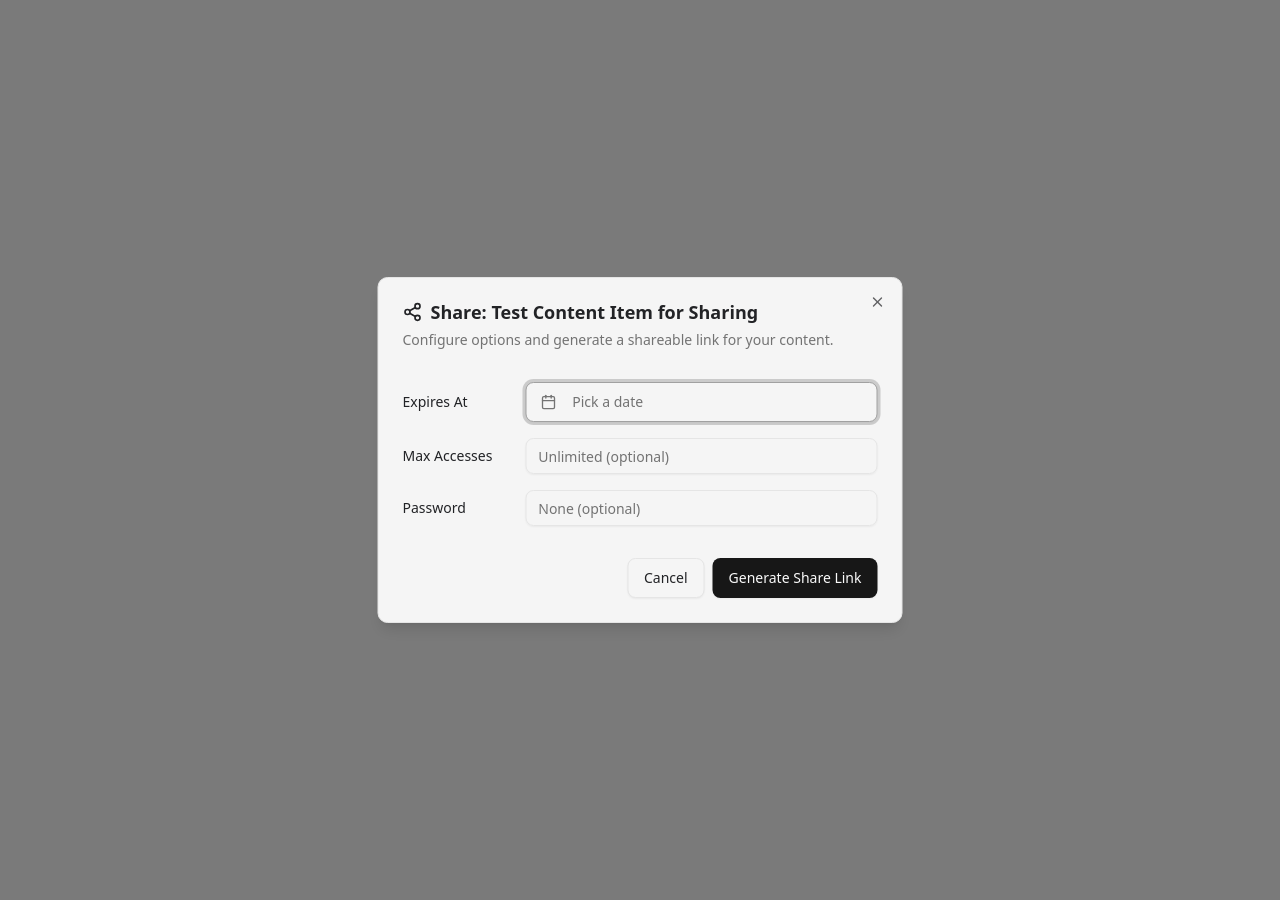
Scenario: ShareContentModal › displays error message on API failure
Click the button "Generate Share Link" at (795, 578), box left=713, top=558, right=878, bottom=598
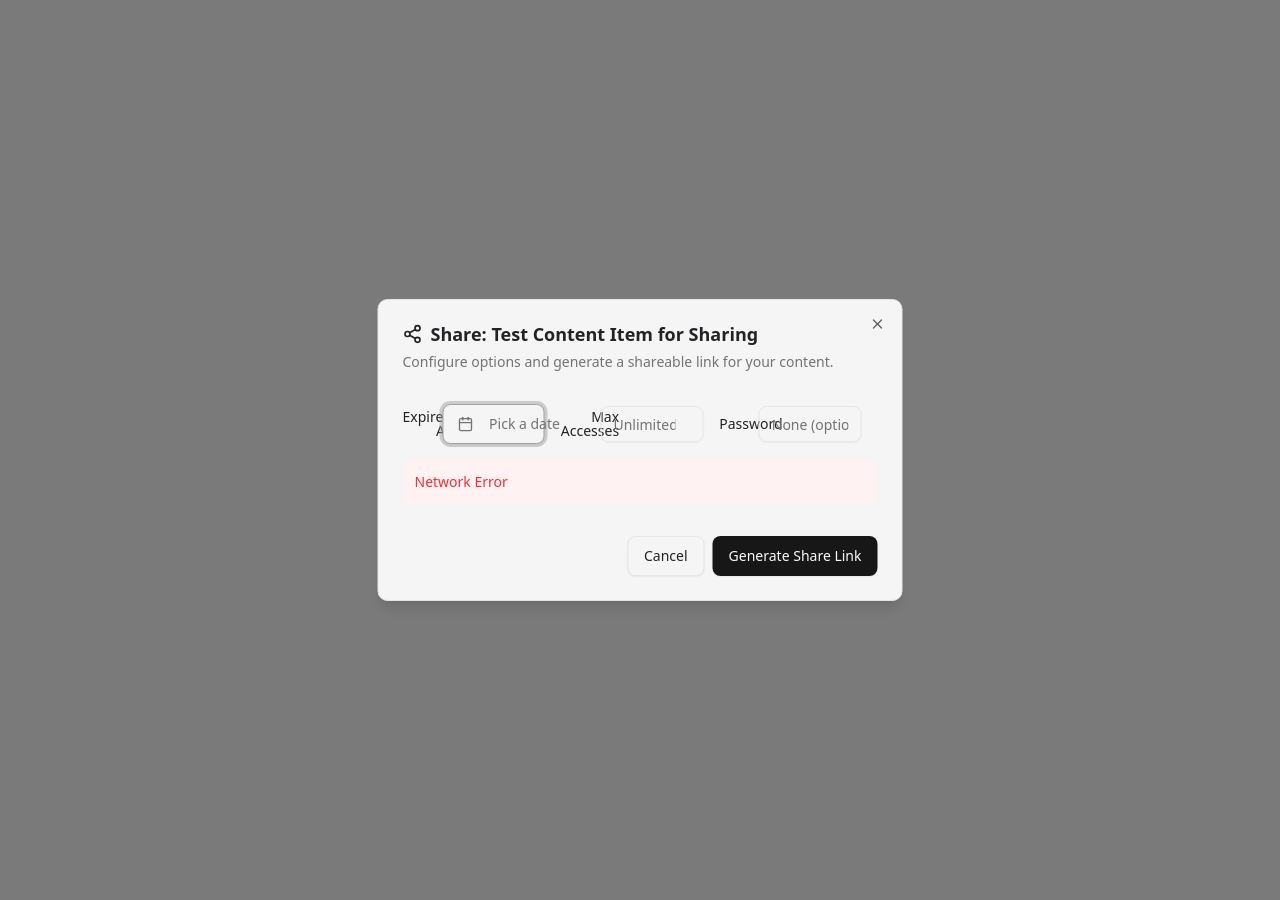
Result: the text "Network Error" is shown at left=402, top=460, right=878, bottom=504
